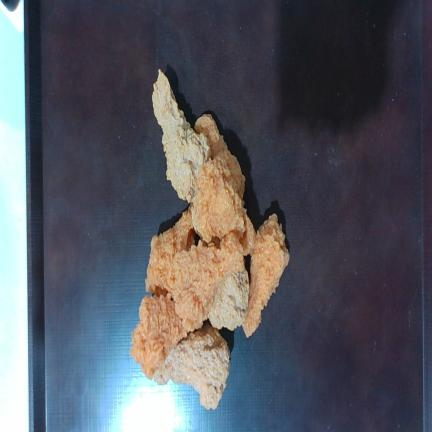chicken: (156, 233, 244, 331), (152, 70, 211, 202), (154, 325, 230, 409), (242, 214, 289, 337), (191, 154, 247, 242), (131, 294, 187, 379), (146, 209, 195, 292), (208, 267, 249, 330)
